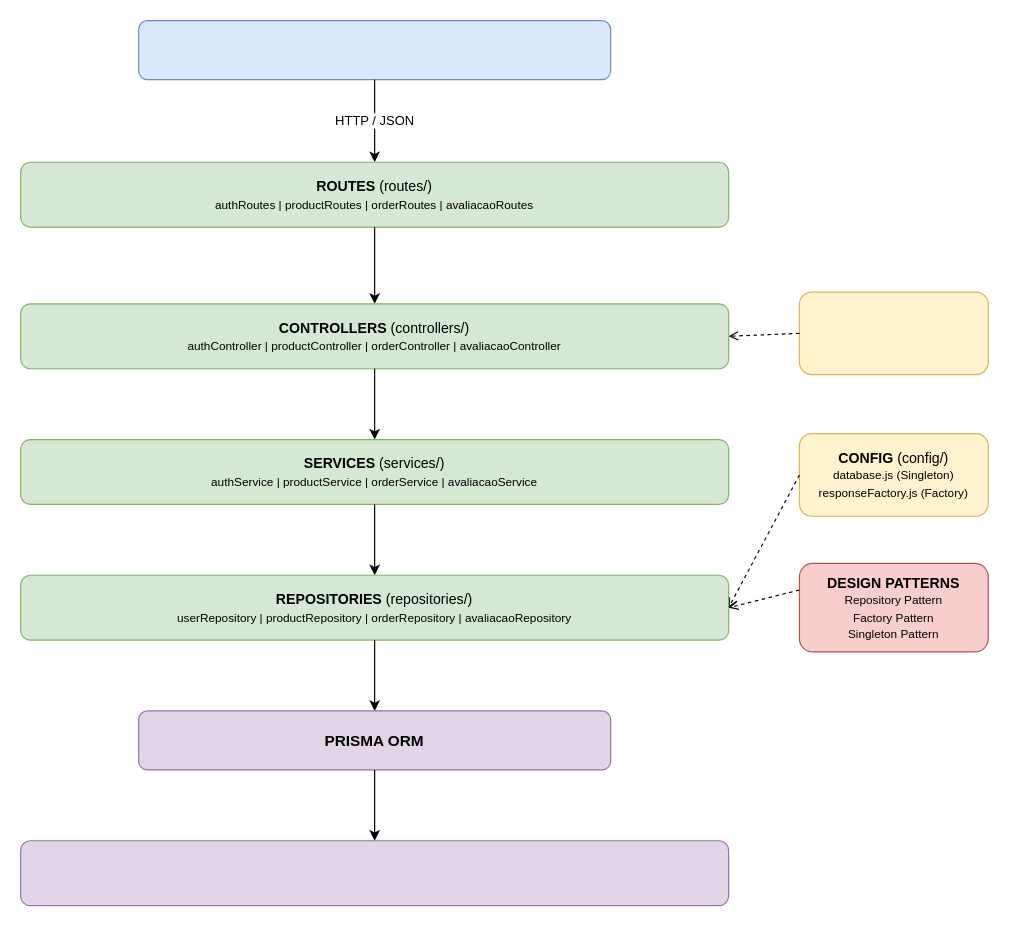
The diagram is 1009 pixels wide and 926 high, and some of its shapes have lost their labels. The shapes that lost their labels are listed below. From the top down, each one's box as (x1, y1, x2, y2) in pixels, then its label:
(137, 19, 611, 80): CLIENTE / BROWSER
(798, 291, 988, 375): MIDDLEWARES authMiddleware roleMiddleware
(19, 840, 729, 906): BANCO DE DADOS — SQLite User | Product | Order | OrderItem | Avaliacao
